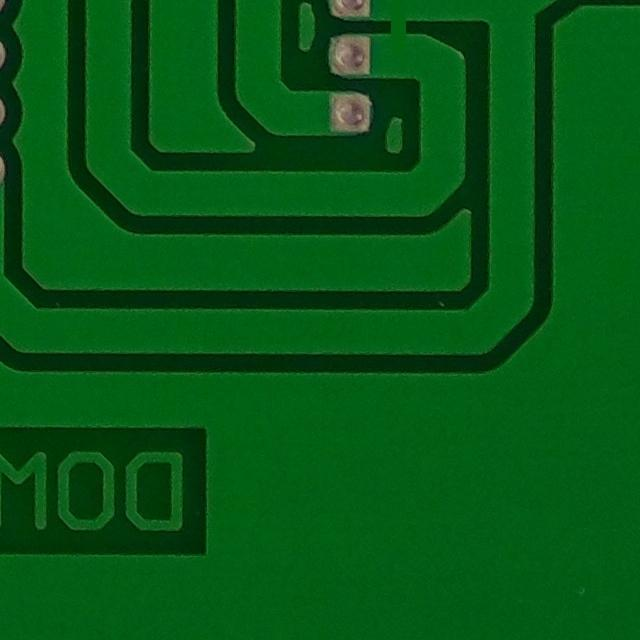short: (339, 0, 444, 84)
